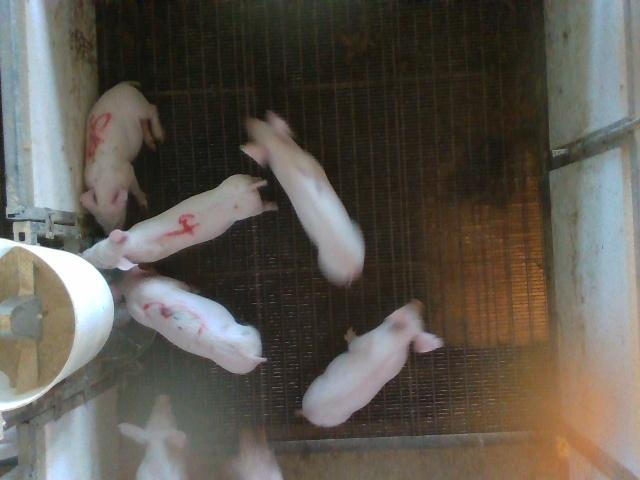pig-2: (241, 111, 365, 284)
pig-3: (111, 268, 265, 373)
pig-4: (82, 175, 276, 269)
pig-5: (80, 81, 164, 233)
